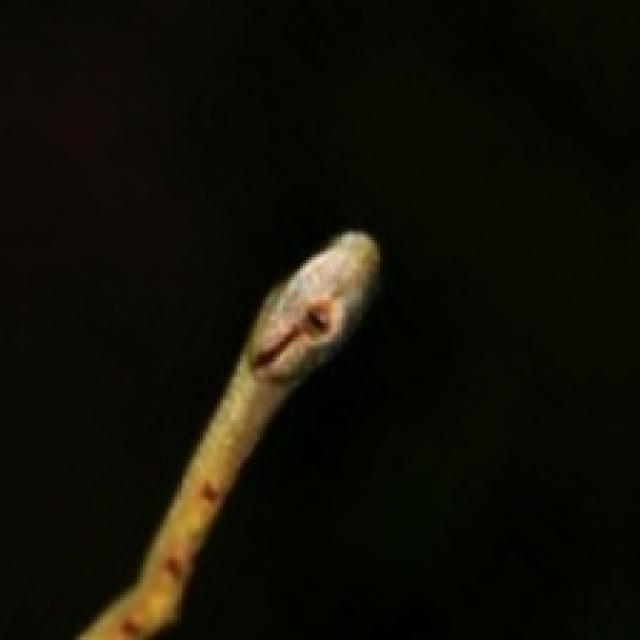dog-toothed cat snake: (77, 231, 377, 637)
